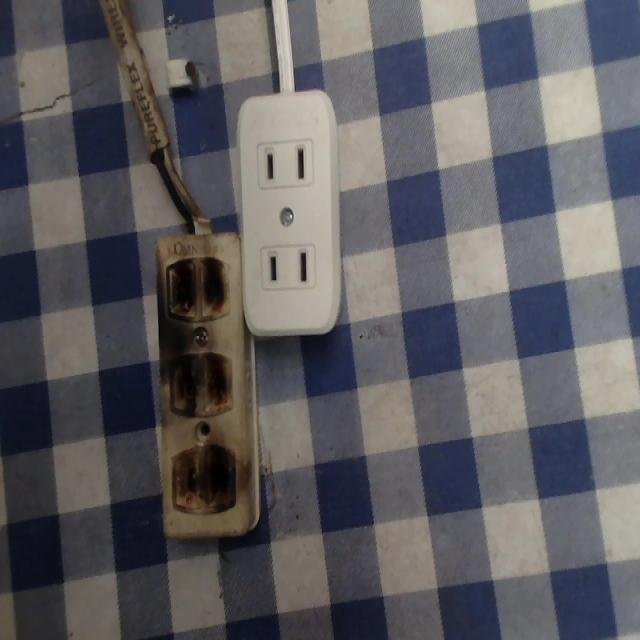-: (161, 345, 238, 427), (163, 442, 238, 522), (161, 248, 228, 325)
